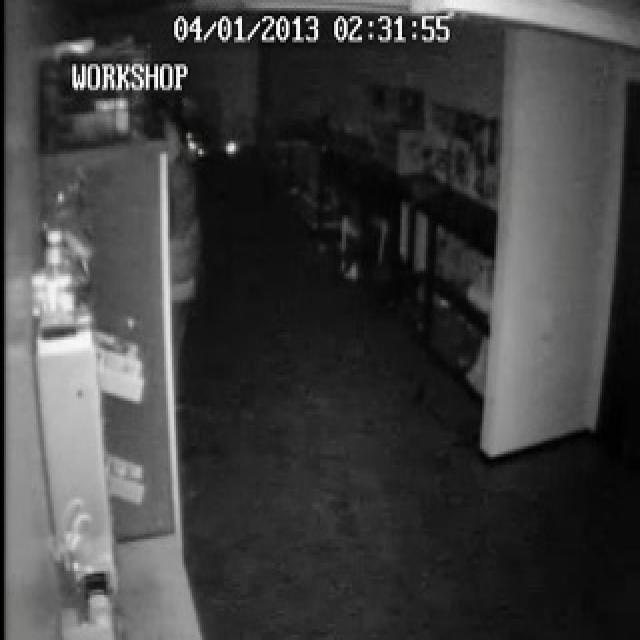thief: (166, 129, 198, 428)
